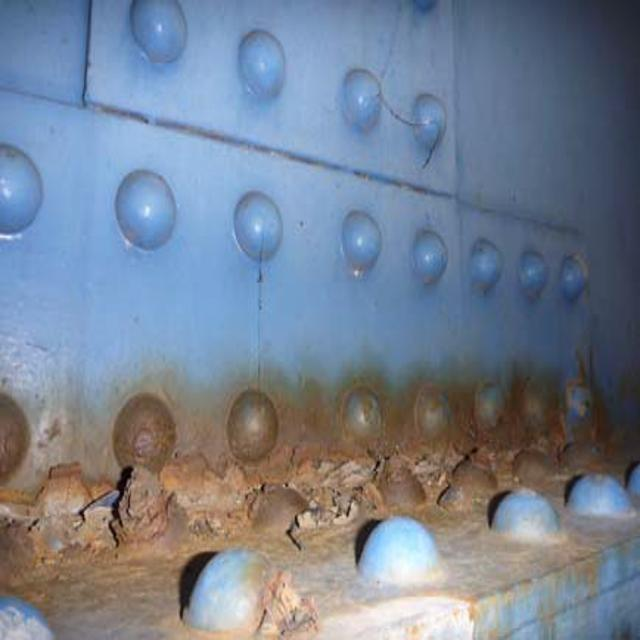corrosion: (17, 371, 607, 540)
